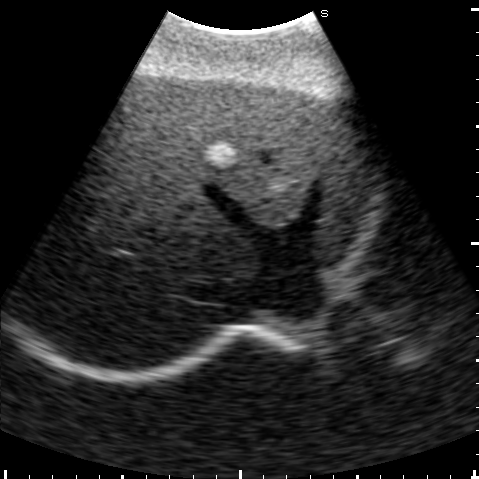S2: (320, 118, 366, 262)
S4: (124, 81, 336, 227)
S7: (37, 231, 201, 369)
S8: (74, 123, 254, 280)
Tumor: (203, 141, 237, 168)
